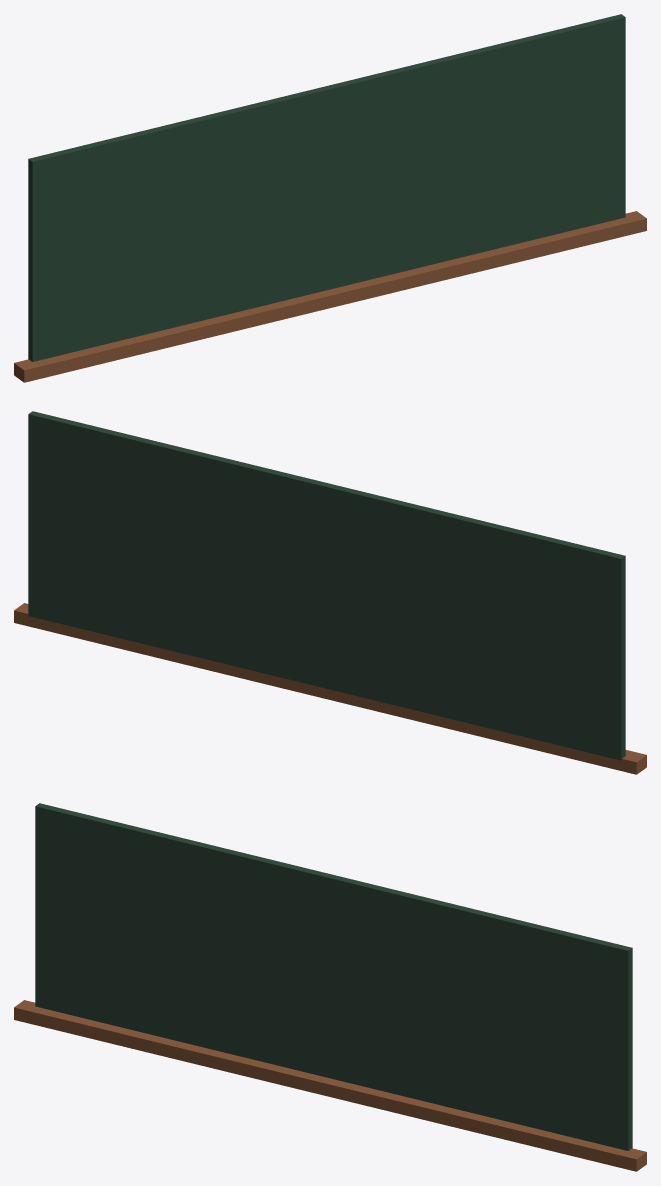
Rendered from chalkboard.glb.
3 renders of one model, top to bottom at view 1: azimuth 30°, elevation 25°; view 2: azimuth 150°, elevation 25°; view 3: azimuth 330°, elevation 25°, orthographic.
Visible parts, largest first — view 1: Box1, Box2; view 2: Box1, Box2; view 3: Box1, Box2.
Boxes of the visible parts, bbox=[...] form: Box1: bbox=[28, 14, 625, 361]; Box2: bbox=[14, 211, 646, 382]; Box1: bbox=[28, 411, 625, 760]; Box2: bbox=[14, 603, 646, 774]; Box1: bbox=[35, 803, 632, 1150]; Box2: bbox=[14, 1000, 646, 1171].
Size of the model in its own units: 4.2 by 1.37 by 0.125.
